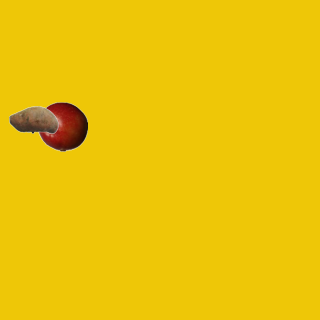Apple Braeburn: (37, 101, 87, 151)
Potato Sweet: (8, 94, 58, 144)
